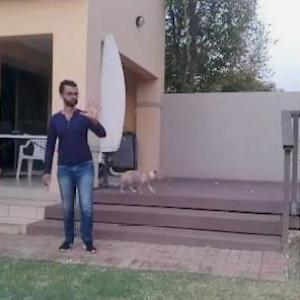follow_hand: (79, 92, 105, 124)
